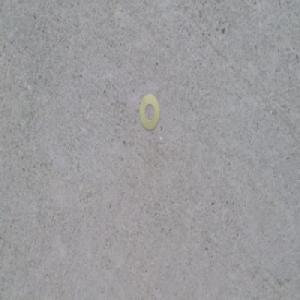Washer: (137, 93, 159, 134)
